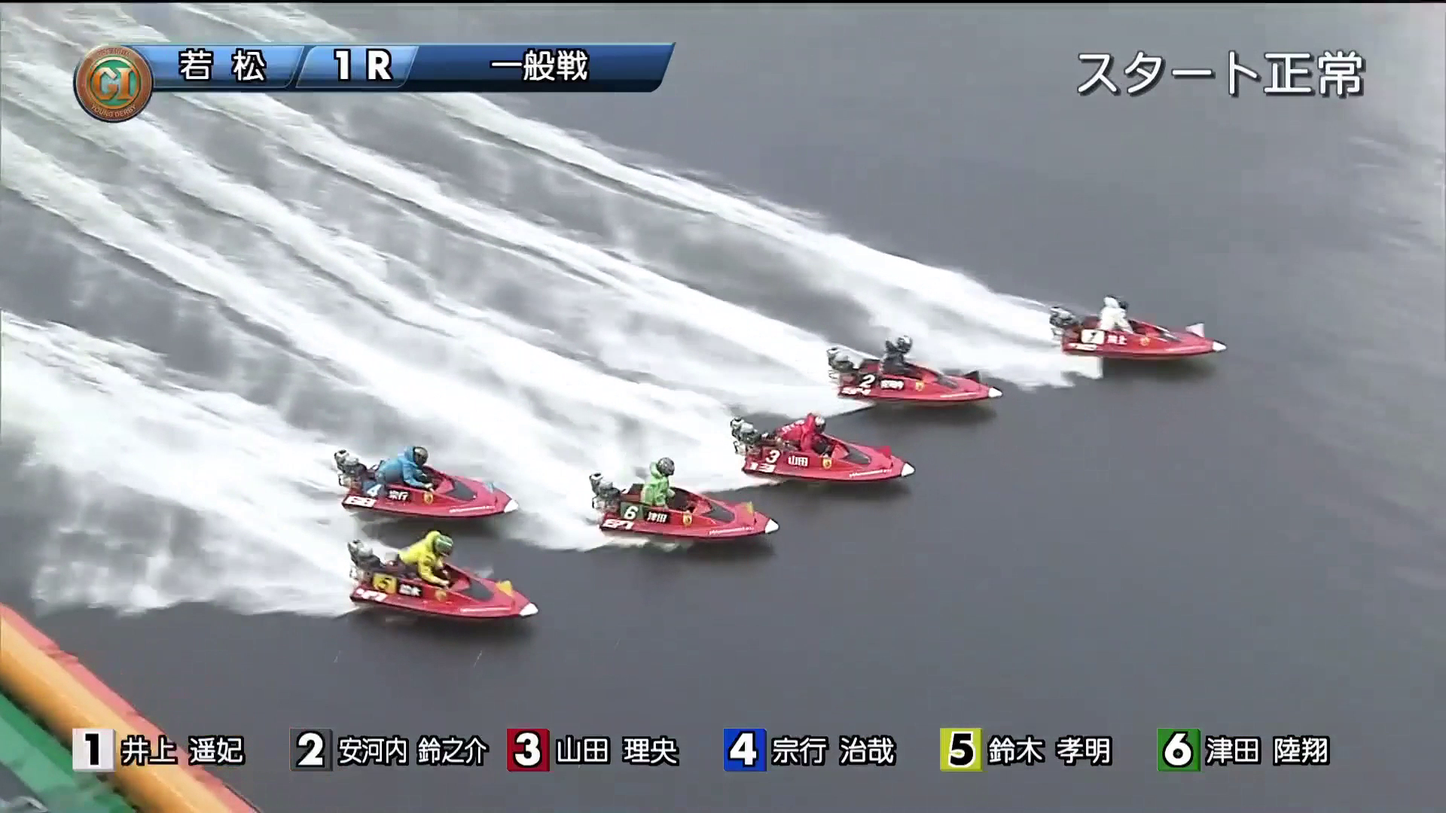１号艇: (1047, 314, 1185, 367)
２号艇: (827, 348, 956, 408)
３号艇: (768, 428, 909, 471)
４号艇: (615, 475, 735, 540)
５号艇: (352, 463, 476, 518)
６号艇: (431, 568, 530, 625)
